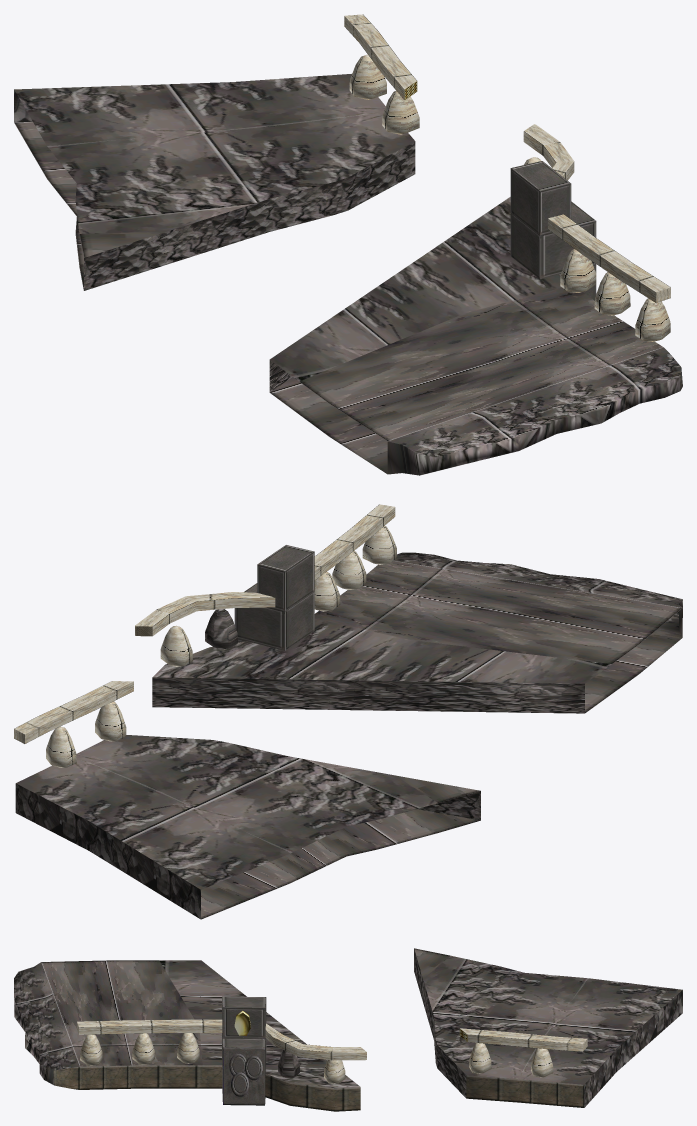
Rendered from INST_SM_WALKWAY_BROKENB.fbx.
3 renders of one model, top to bottom at view 1: azimuth 30°, elevation 25°; view 2: azimuth 150°, elevation 25°; view 3: azimuth 270°, elevation 25°, orthographic. The views are drawn at different scales.
Parts seen in each view (by area): view 1: INST_SM_WALKWAY_BROKENB; view 2: INST_SM_WALKWAY_BROKENB; view 3: INST_SM_WALKWAY_BROKENB.
Boxes of the visible parts, x1,y1,x2,y2 form: INST_SM_WALKWAY_BROKENB: (14, 14, 682, 475); INST_SM_WALKWAY_BROKENB: (14, 504, 682, 919); INST_SM_WALKWAY_BROKENB: (14, 948, 682, 1111).
Bounding box in the file's own units: 80878 × 23218 × 158488.
Materials: 7 (7 with a texture image).
